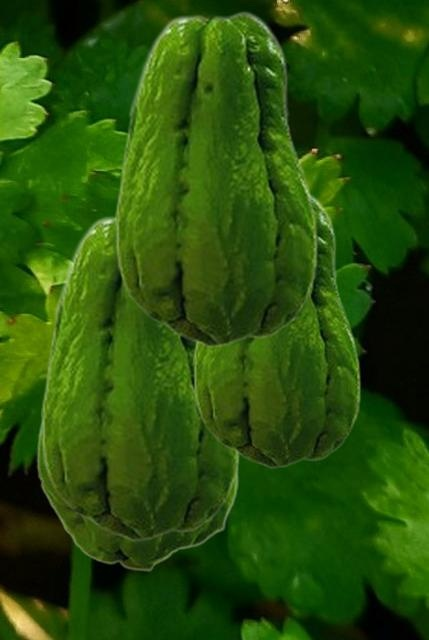sayote: (115, 10, 317, 347), (41, 213, 239, 541), (193, 193, 360, 468), (36, 413, 238, 571)
